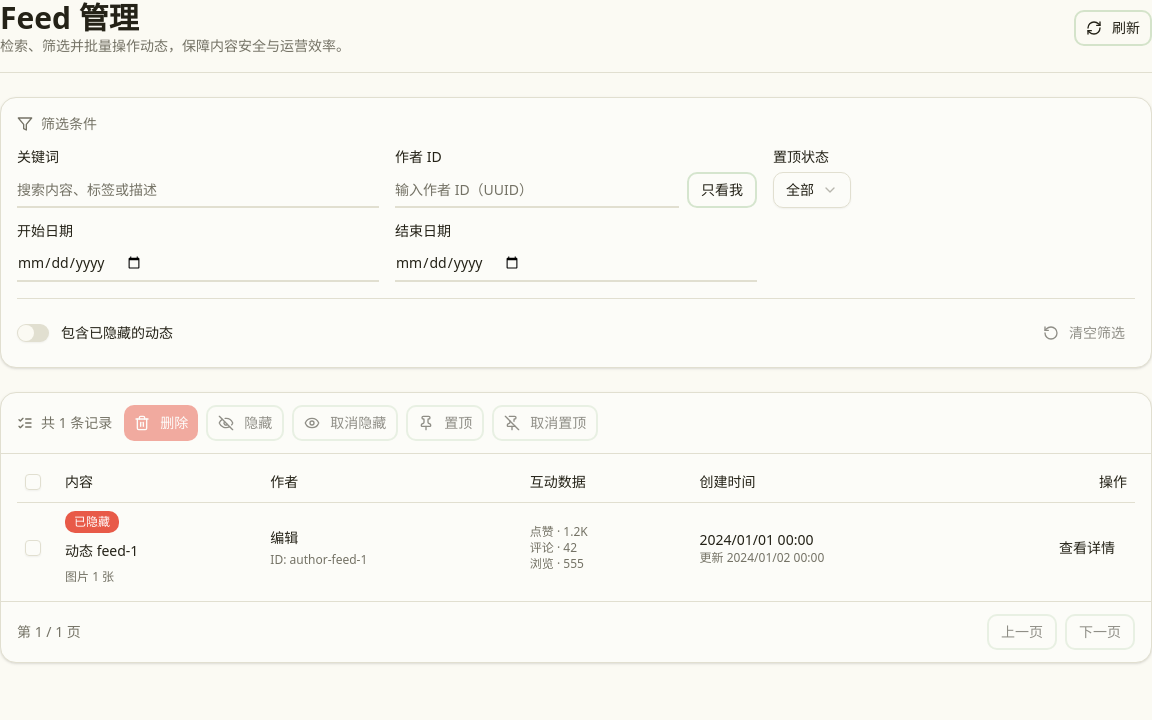
FeedAdminClient › opens detail panel and renders feed metadata
Expected: the text "动态 feed-1" is shown, [65,540,138,560]
Step 1. Click the button "查看详情" → click(1087, 548), box [1047,530,1127,566]
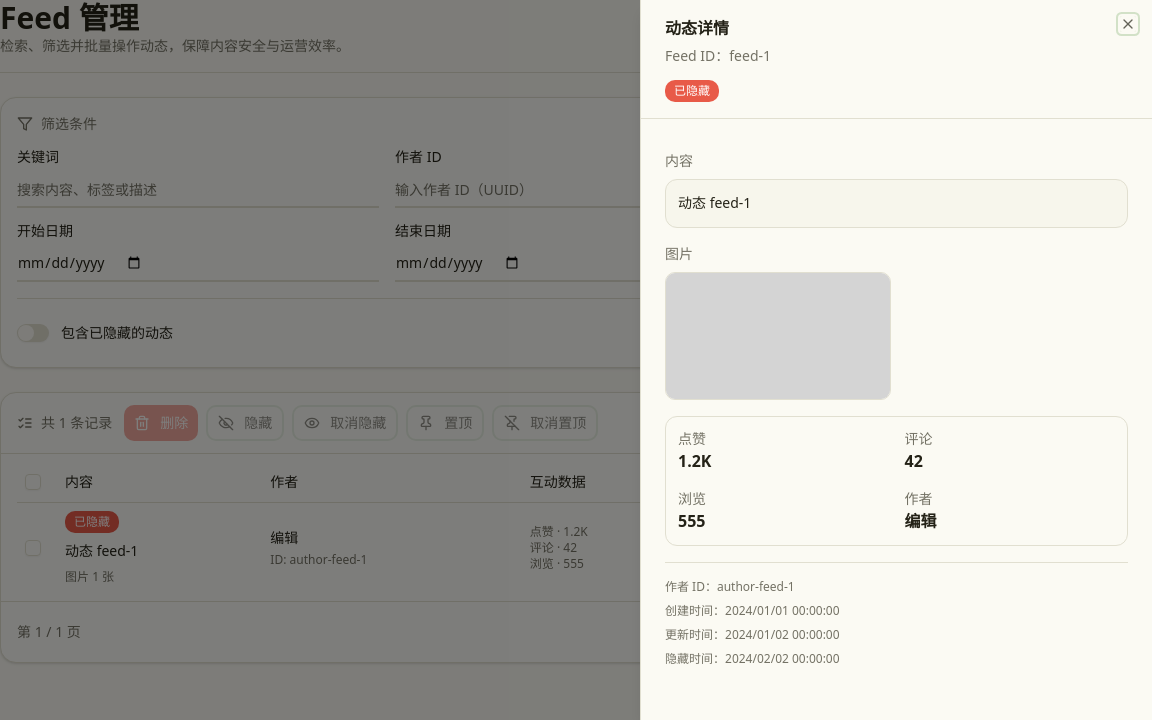
Expected: the text "Feed ID：feed-1" is shown, [665,46,771,65]
Expected: the text "已隐藏" is shown once, [665,80,719,102]
Step 2. Click the button named "Close" → click(1128, 24), box [1120,16,1136,32]
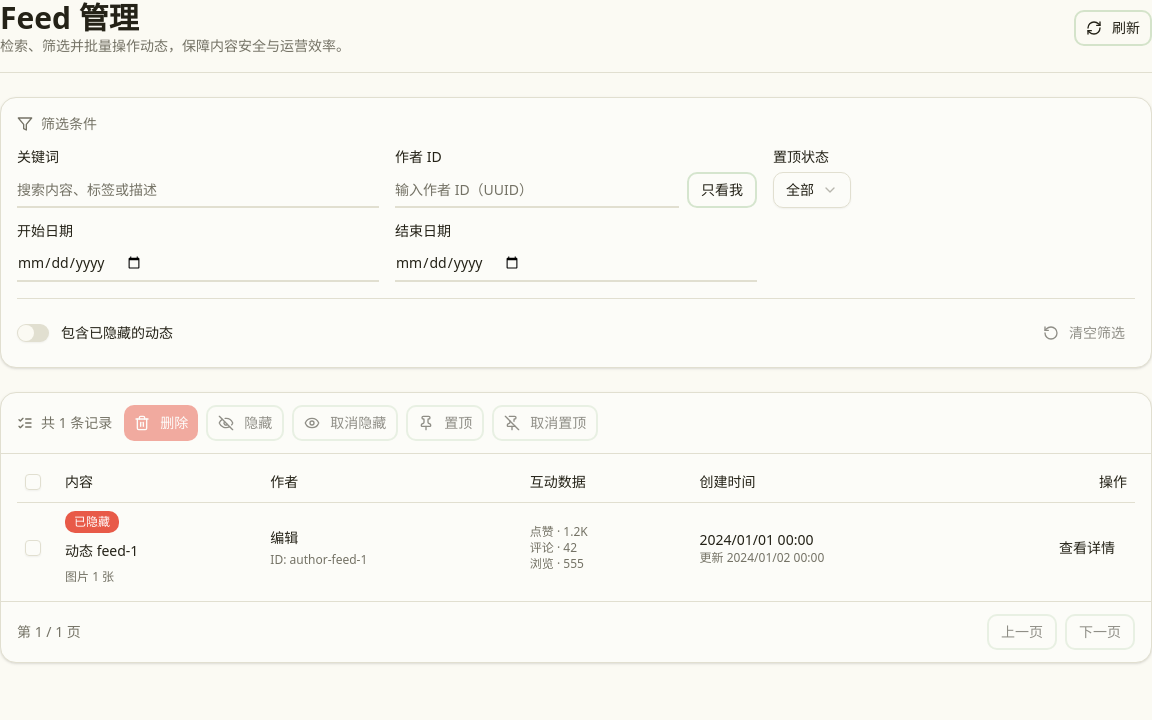
Expected: the heading "动态详情" is gone
